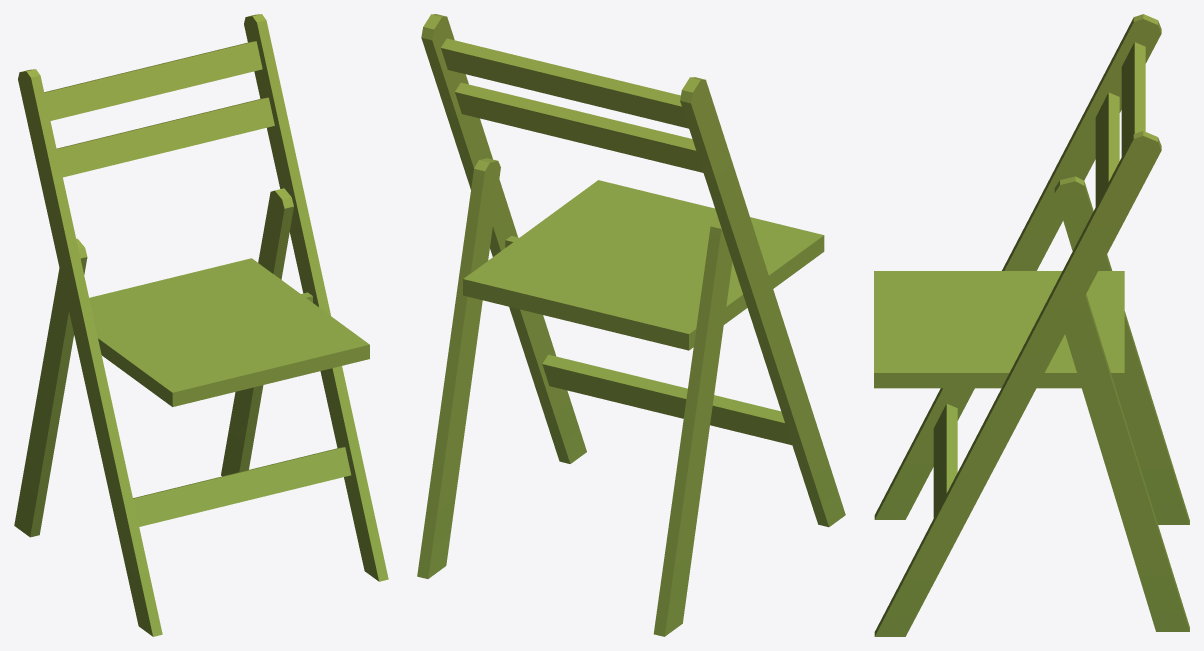
The model's file is Chair_08.fbx.
3 views of the same model, side by side, from view 1: azimuth 30°, elevation 25°; view 2: azimuth 150°, elevation 25°; view 3: azimuth 270°, elevation 25° (orthographic). The views are drawn at different scales.
Visible parts, largest first — view 1: Chair_08; view 2: Chair_08; view 3: Chair_08.
Boxes of the visible parts, x1,y1,x2,y2 form: Chair_08: [14, 14, 388, 636]; Chair_08: [417, 14, 845, 636]; Chair_08: [874, 14, 1189, 636].
Size of the model in its own units: 0.5199 by 0.9971 by 0.5693.
